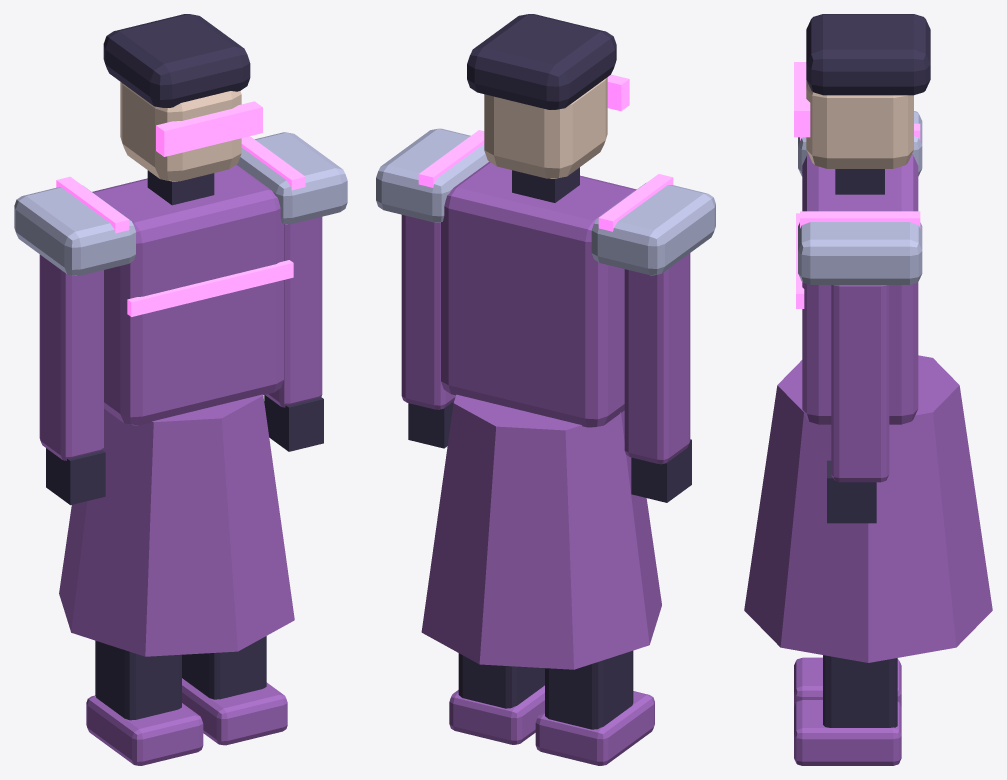
Rendered from hunter_rival_purple.glb.
3 views of the same model, side by side, from view 1: azimuth 30°, elevation 25°; view 2: azimuth 150°, elevation 25°; view 3: azimuth 270°, elevation 25° (orthographic). The views are drawn at different scales.
Visible parts, largest first — view 1: hunter_rival_purple; view 2: hunter_rival_purple; view 3: hunter_rival_purple.
Boxes of the visible parts, x1,y1,x2,y2 form: hunter_rival_purple: (14,14,347,765); hunter_rival_purple: (376,14,715,765); hunter_rival_purple: (744,14,992,765).
Size of the model in its own units: 0.8 by 1.86 by 0.6.
